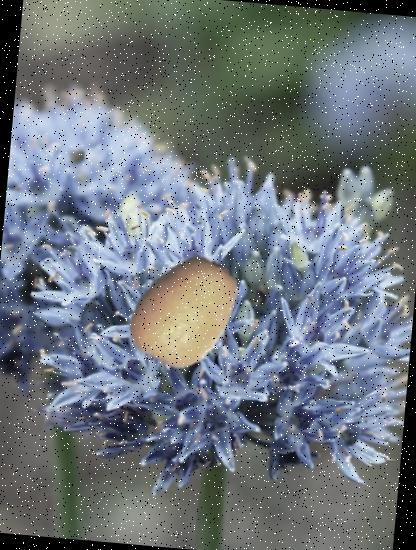Kumquats: (120, 248, 250, 377)
